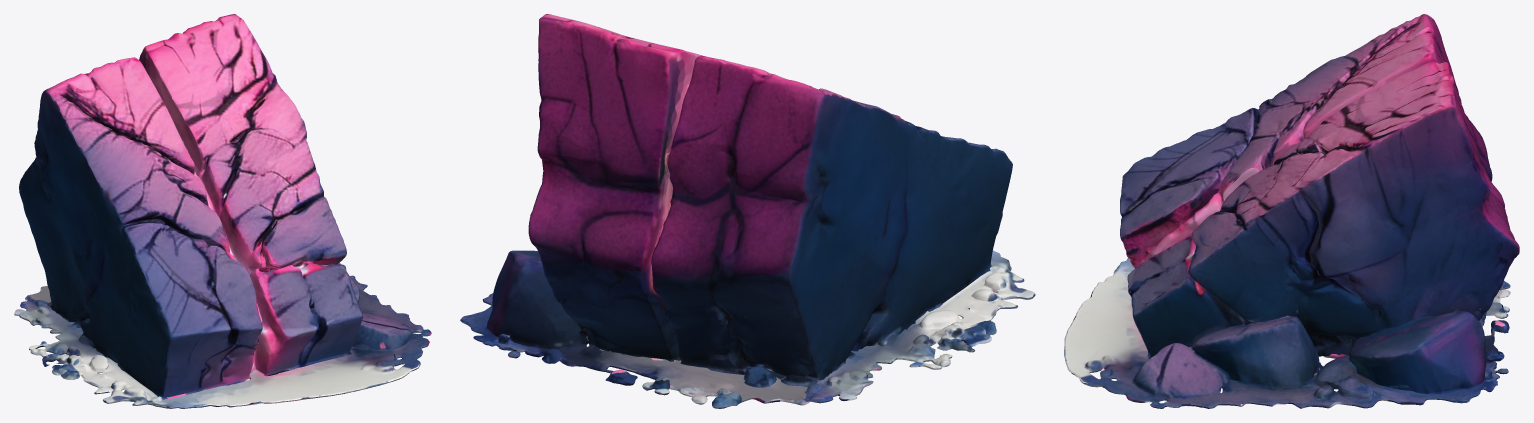
The model's file is shore-stone-2-generated-2026-05-17T19-55-56-822Z.high.glb.
3 renders of one model, left to right at view 1: azimuth 30°, elevation 25°; view 2: azimuth 150°, elevation 25°; view 3: azimuth 270°, elevation 25°, orthographic. The views are drawn at different scales.
Parts seen in each view (by area): view 1: temp_mesh.ply; view 2: temp_mesh.ply; view 3: temp_mesh.ply.
Part boxes in pixels (x1,y1,x2,y2): temp_mesh.ply: (14, 14, 431, 408); temp_mesh.ply: (460, 14, 1035, 408); temp_mesh.ply: (1064, 14, 1519, 408).
Size of the model in its own units: 1.83 by 1.3 by 1.97.
Materials: 1 (1 with a texture image).
